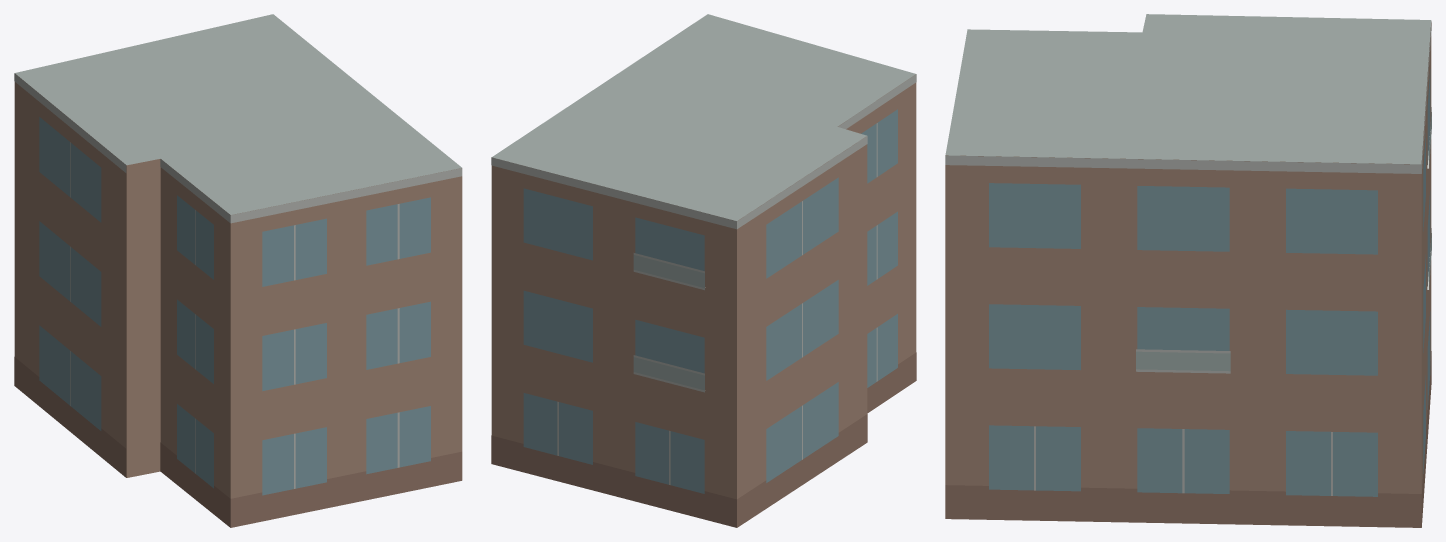
Rendered from survey-upis-32903366.glb.
3 views of the same model, side by side, from view 1: azimuth 30°, elevation 25°; view 2: azimuth 150°, elevation 25°; view 3: azimuth 270°, elevation 25° (orthographic). The views are drawn at different scales.
Parts seen in each view (by area): view 1: survey-upis-32903366.tmp; view 2: survey-upis-32903366.tmp; view 3: survey-upis-32903366.tmp.
Part boxes in pixels (x1,y1,x2,y2): survey-upis-32903366.tmp: (14, 14, 462, 527); survey-upis-32903366.tmp: (491, 14, 916, 527); survey-upis-32903366.tmp: (945, 14, 1431, 527).
Size of the model in its own units: 8.12 by 9.15 by 11.1.
